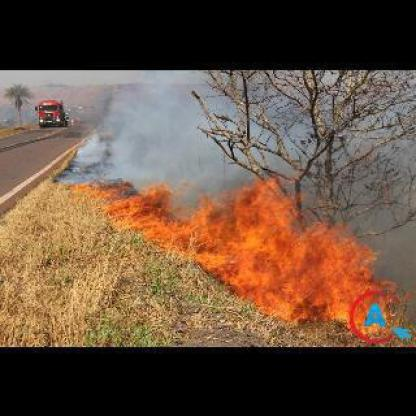fire: (74, 180, 393, 332)
